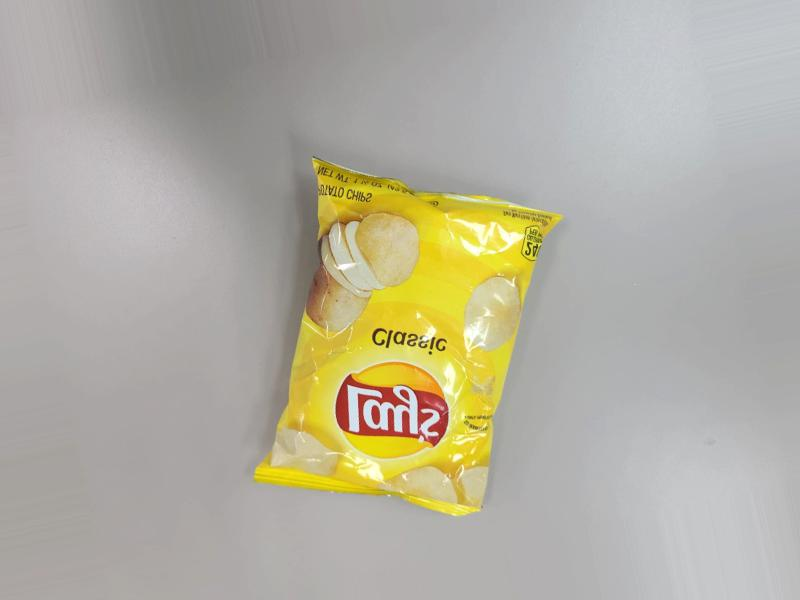lays: (267, 169, 567, 526)
